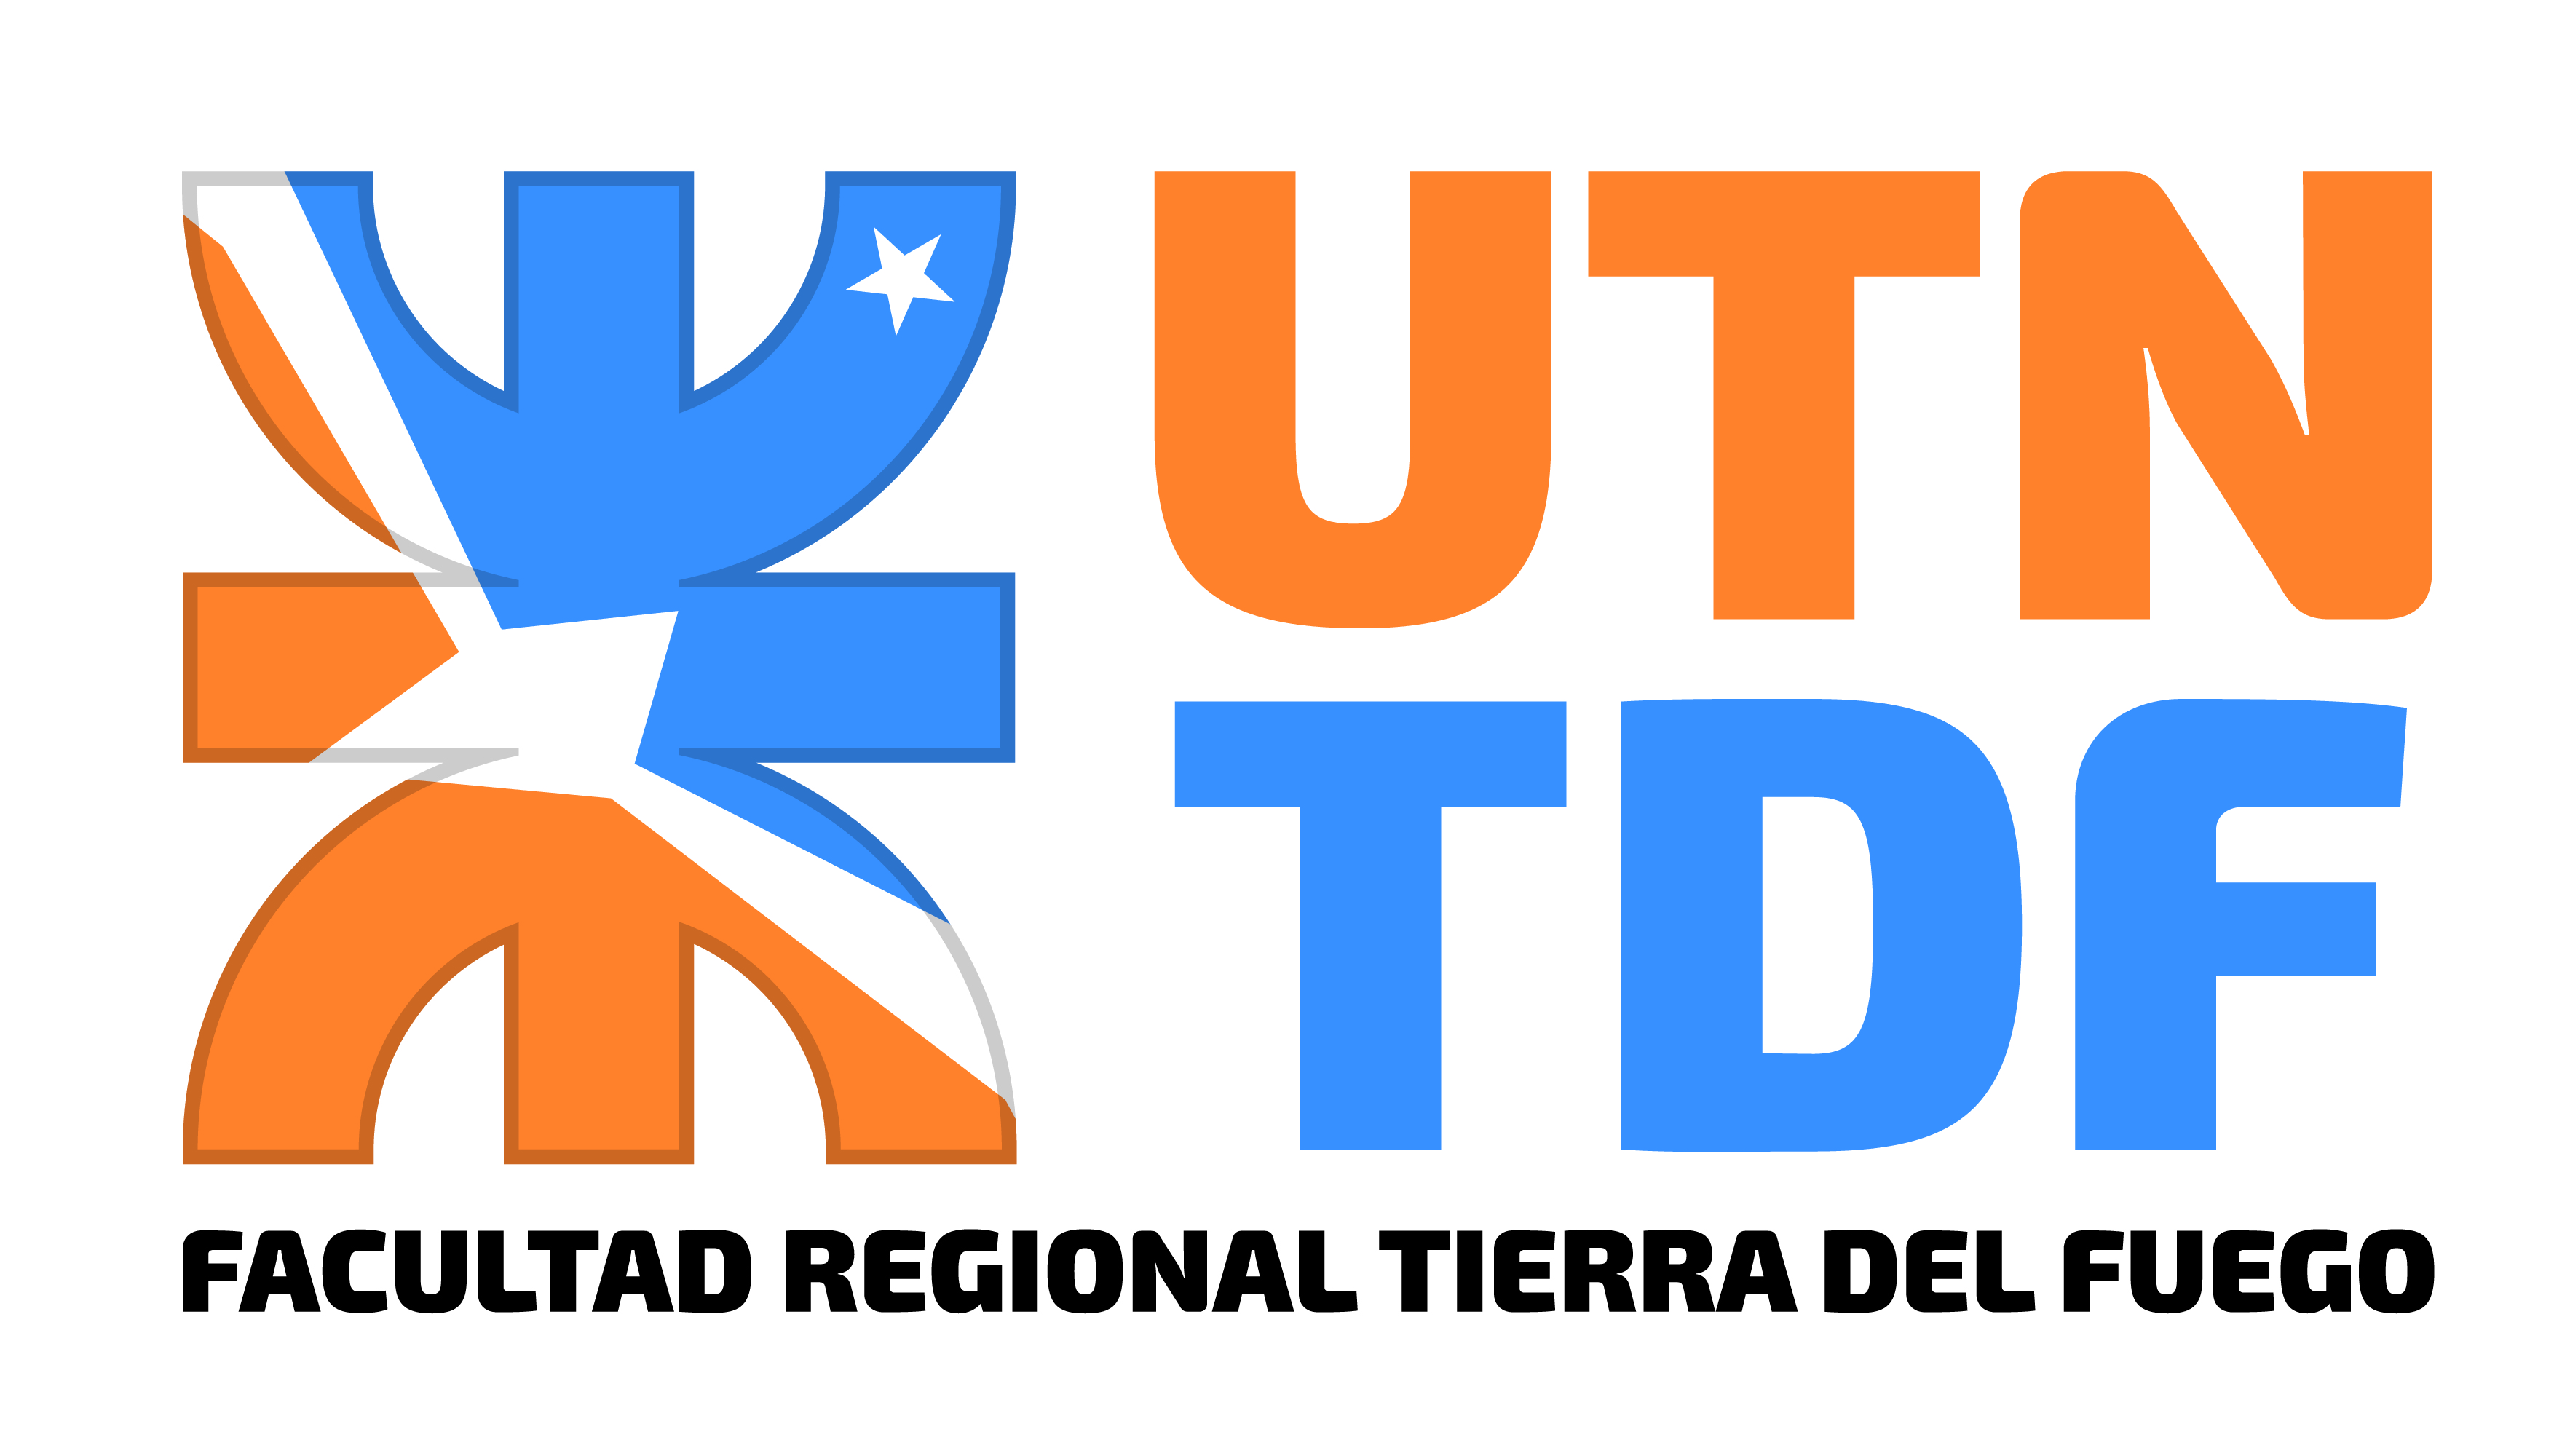utn: (182, 154, 1028, 1181)
